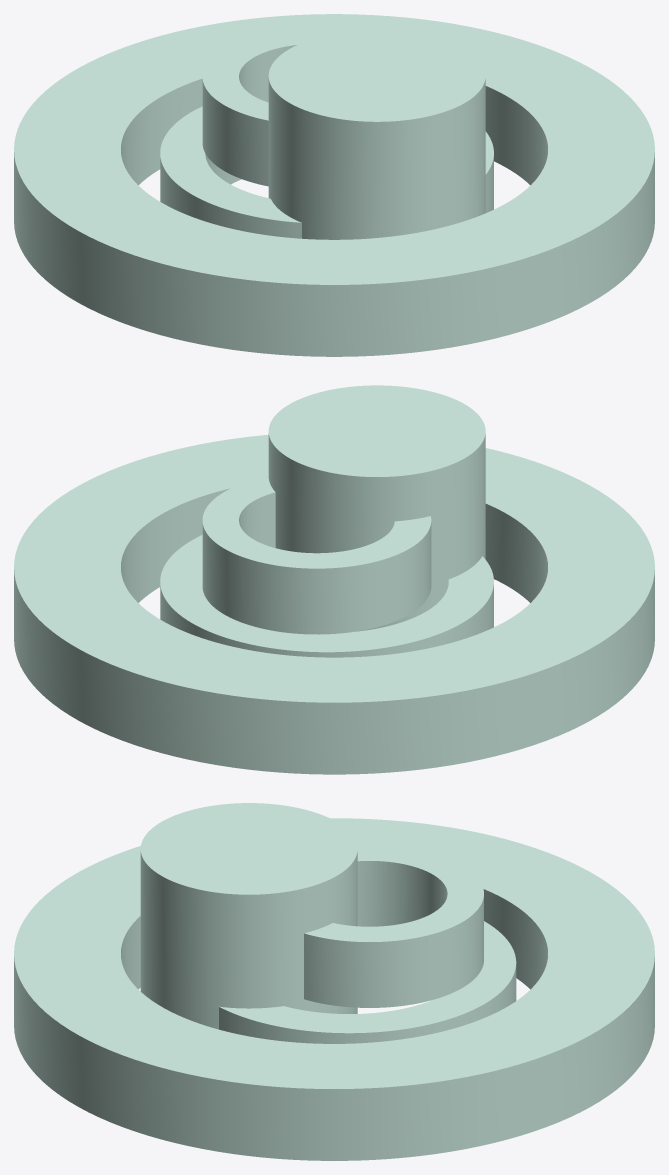
The picture shows the model from 3 angles, top to bottom: view 1: azimuth 30°, elevation 25°; view 2: azimuth 150°, elevation 25°; view 3: azimuth 270°, elevation 25°; orthographic projection.
Visible parts, largest first — view 1: Renderer Node; view 2: Renderer Node; view 3: Renderer Node.
Boxes of the visible parts, left/top/right/bottom form: Renderer Node: left=14, top=14, right=654, bottom=356; Renderer Node: left=14, top=385, right=654, bottom=774; Renderer Node: left=14, top=803, right=654, bottom=1160.
Bounding box in the file's own units: 1.52 × 0.4609 × 1.52.
